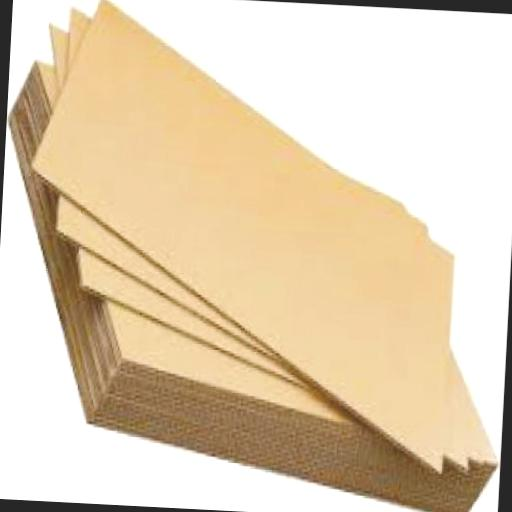cardboard: (0, 53, 512, 512), (17, 0, 472, 471), (28, 20, 498, 470), (54, 4, 444, 362)
